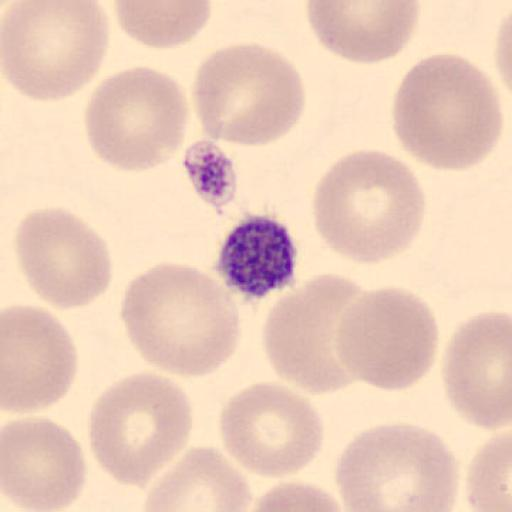Platelet: (213, 210, 300, 303), (181, 137, 241, 213)
RBC: (120, 260, 243, 380), (310, 148, 428, 267), (390, 51, 504, 173), (260, 272, 370, 396), (88, 370, 196, 488), (191, 41, 307, 148), (82, 64, 190, 174), (334, 420, 462, 512), (333, 284, 439, 393), (1, 1, 111, 102), (217, 380, 325, 480), (14, 204, 114, 310), (2, 302, 80, 415), (441, 309, 512, 430), (2, 416, 88, 512), (140, 444, 254, 512), (304, 0, 420, 66), (112, 0, 214, 51), (466, 426, 512, 512), (245, 479, 346, 512), (492, 8, 512, 118), (493, 15, 511, 94)
